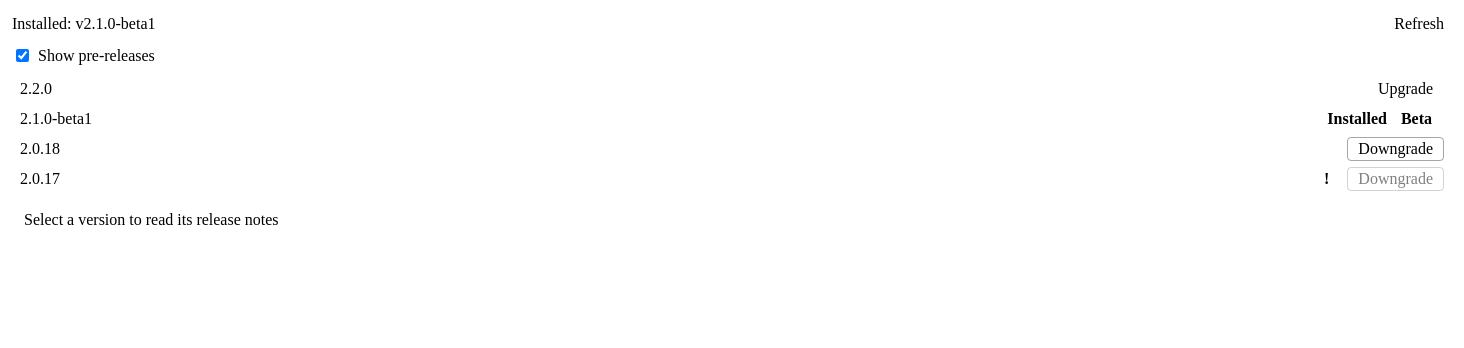
Test: VersionsTab › surfaces a failed switch instead of failing silently
Expected: the text "2.0.18" is shown, [20,140,60,157]
What coordinates should you click on to do the following:
click the button with aria-label "Switch to v2.0.18"
I would click on:
 (1396, 149)
Its box is [1347,137,1444,161].
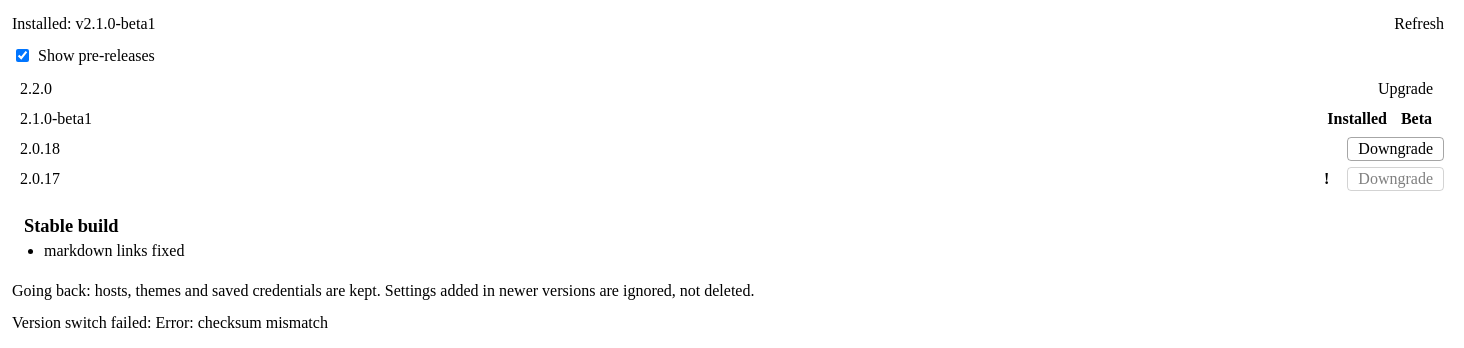
Result: the text "Version switch failed: Error: checksum mismatch" is shown at [12,314,328,331]
